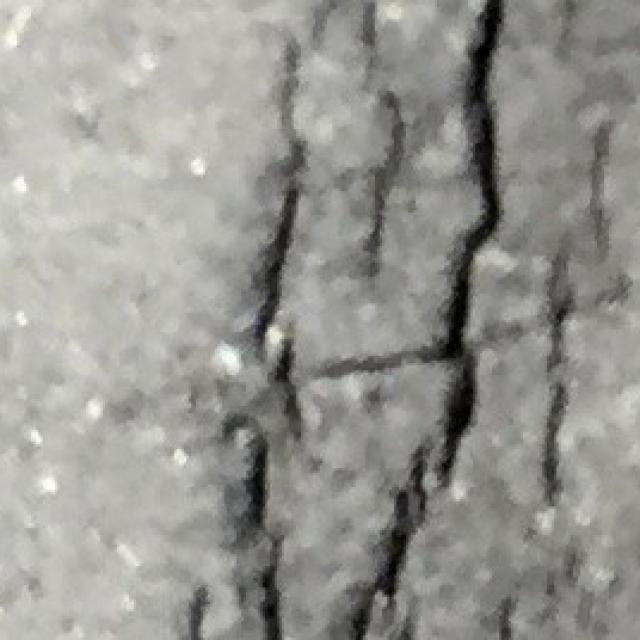Cracks: (170, 0, 638, 638)
